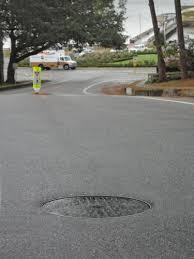Manhole-Open: (38, 183, 180, 224)
